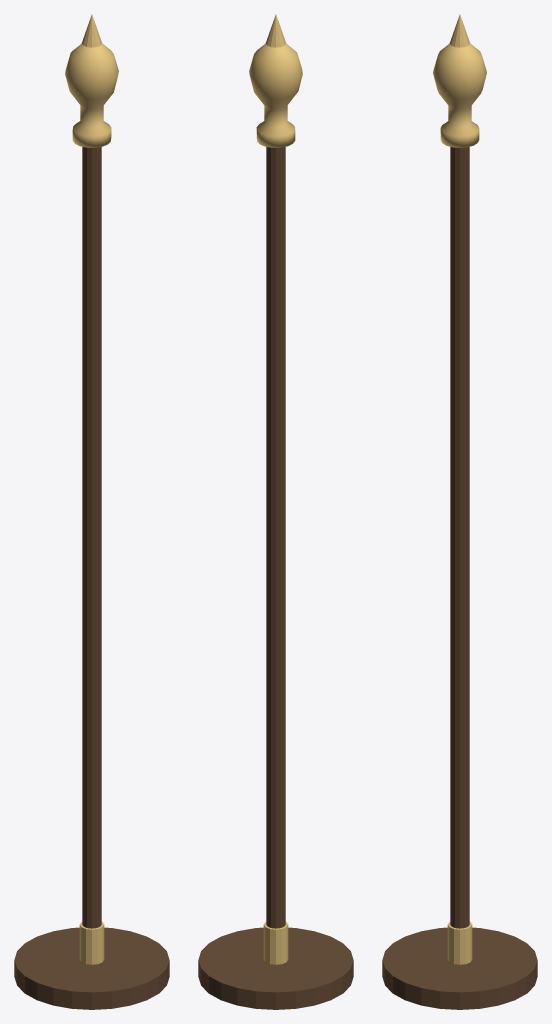
Rendered from exhibit7_linguist_staff.glb.
3 renders of one model, left to right at view 1: azimuth 30°, elevation 25°; view 2: azimuth 150°, elevation 25°; view 3: azimuth 270°, elevation 25°, orthographic.
Visible parts, largest first — view 1: staff_shaft, staff_base, staff_gold; view 2: staff_shaft, staff_base, staff_gold; view 3: staff_shaft, staff_base, staff_gold.
Part boxes in pixels (left/top/right/bottom): staff_shaft: left=82, top=147, right=101, bottom=928; staff_base: left=14, top=927, right=169, bottom=1009; staff_gold: left=65, top=14, right=118, bottom=964; staff_shaft: left=266, top=147, right=285, bottom=928; staff_base: left=198, top=927, right=353, bottom=1009; staff_gold: left=249, top=14, right=302, bottom=964; staff_shaft: left=450, top=147, right=469, bottom=928; staff_base: left=382, top=927, right=537, bottom=1009; staff_gold: left=433, top=14, right=486, bottom=964.
Bounding box in the file's own units: 0.24 × 1.65 × 0.24.
